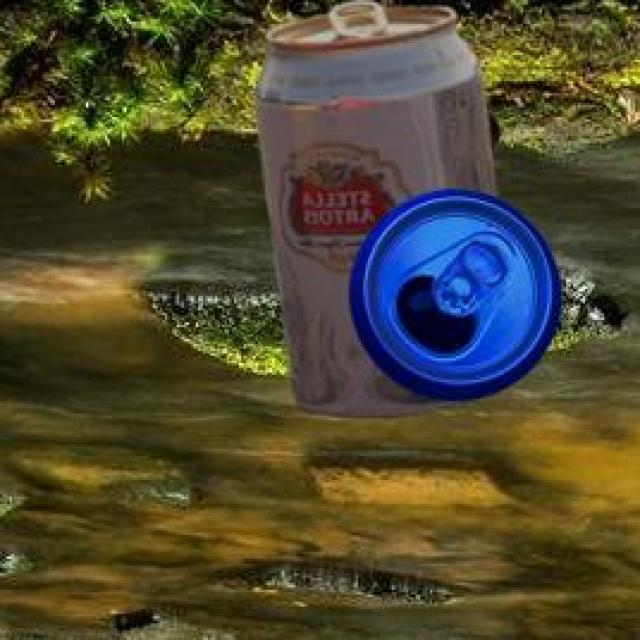logam: (252, 4, 493, 421), (347, 195, 558, 405), (484, 113, 496, 156)
